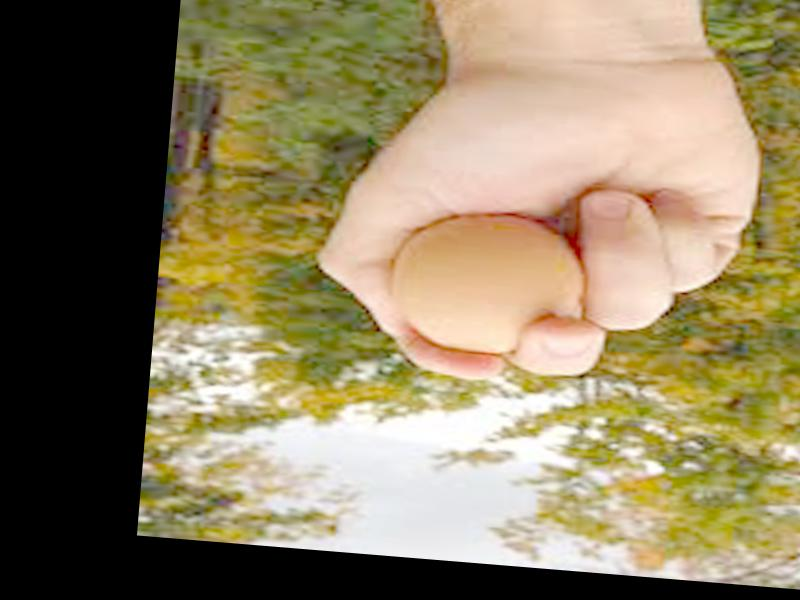Eggs: (388, 207, 597, 360)
